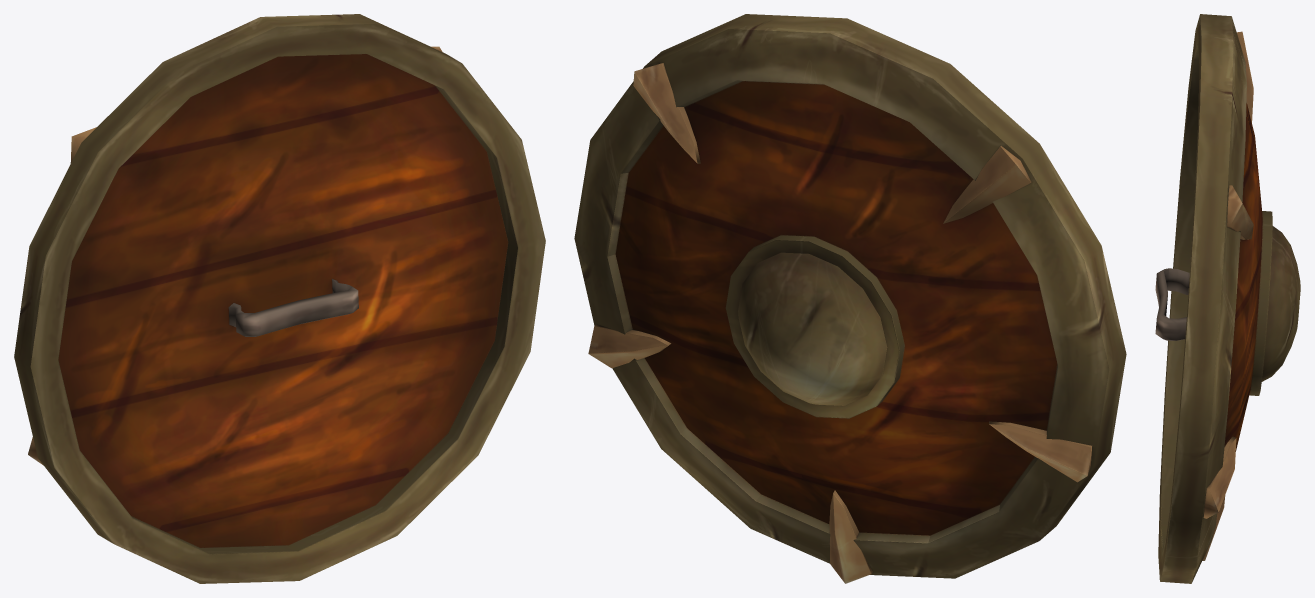
The model's file is Shield2.FBX.
The picture shows the model from 3 angles, left to right: view 1: azimuth 30°, elevation 25°; view 2: azimuth 150°, elevation 25°; view 3: azimuth 270°, elevation 25°; orthographic projection. The views are drawn at different scales.
Parts seen in each view (by area): view 1: Shield; view 2: Shield; view 3: Shield.
Boxes of the visible parts, x1=… form: Shield: x1=14, y1=14, x2=545, y2=583; Shield: x1=574, y1=14, x2=1126, y2=583; Shield: x1=1155, y1=14, x2=1300, y2=583.
Size of the model in its own units: 167 by 168 by 42.43.
Materials: 1 (1 with a texture image).
